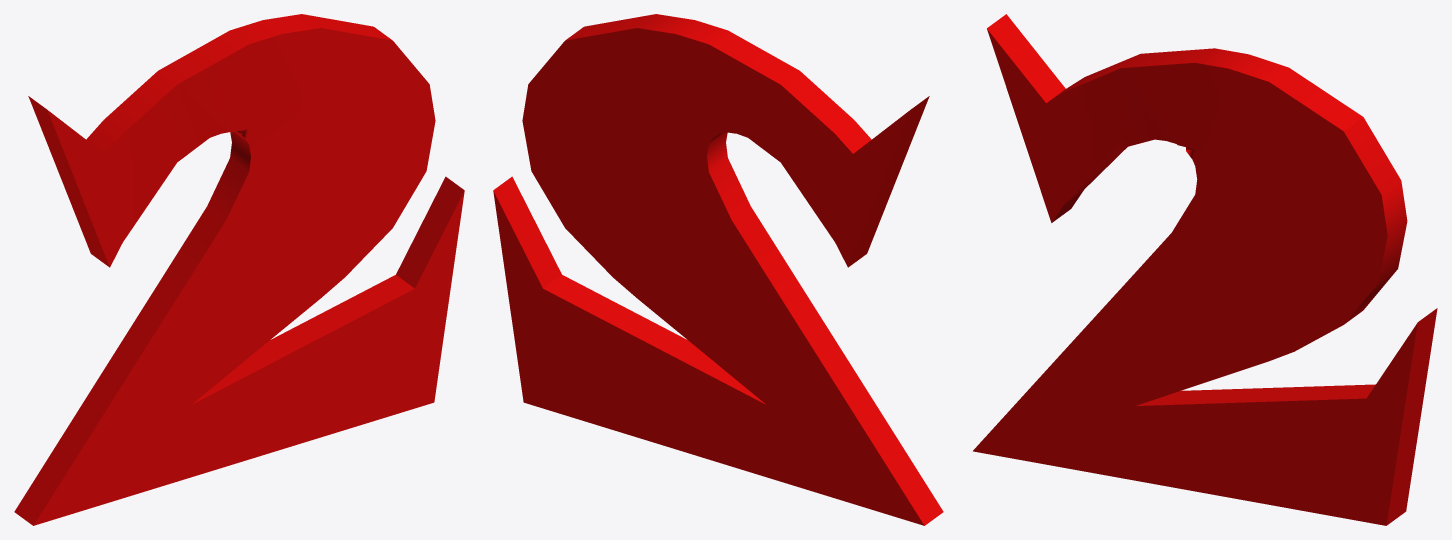
3 views of the same model, side by side, from view 1: azimuth 30°, elevation 25°; view 2: azimuth 150°, elevation 25°; view 3: azimuth 330°, elevation 25° (orthographic). The views are drawn at different scales.
Visible parts, largest first — view 1: Trim_Char_x_1_1; view 2: Trim_Char_x_1_1; view 3: Trim_Char_x_1_1.
Part boxes in pixels (box(x1,y1,x2,y2)): Trim_Char_x_1_1: box(14, 14, 464, 525); Trim_Char_x_1_1: box(493, 14, 943, 525); Trim_Char_x_1_1: box(973, 14, 1437, 525).
Size of the model in its own units: 0.7771 by 0.7422 by 0.0596.
